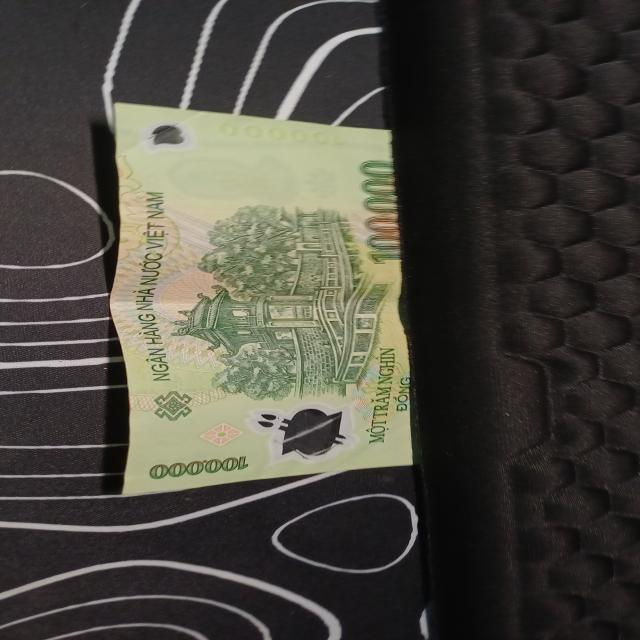100 000 VND: (98, 96, 422, 506)
